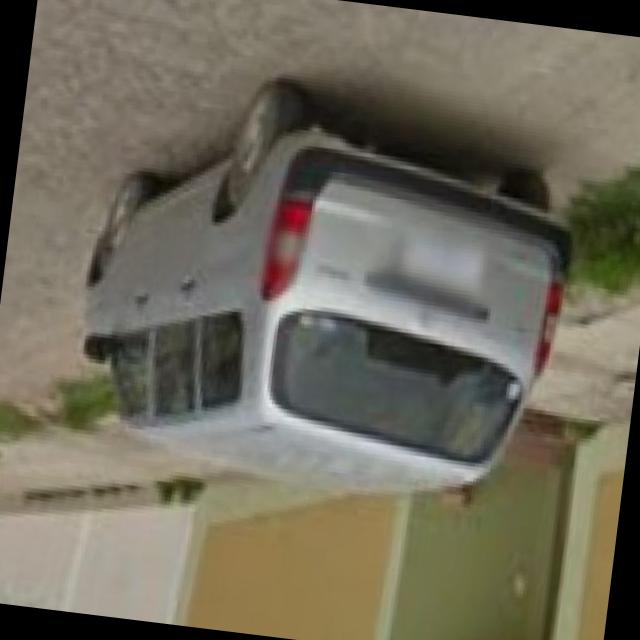car: (37, 41, 618, 538)
